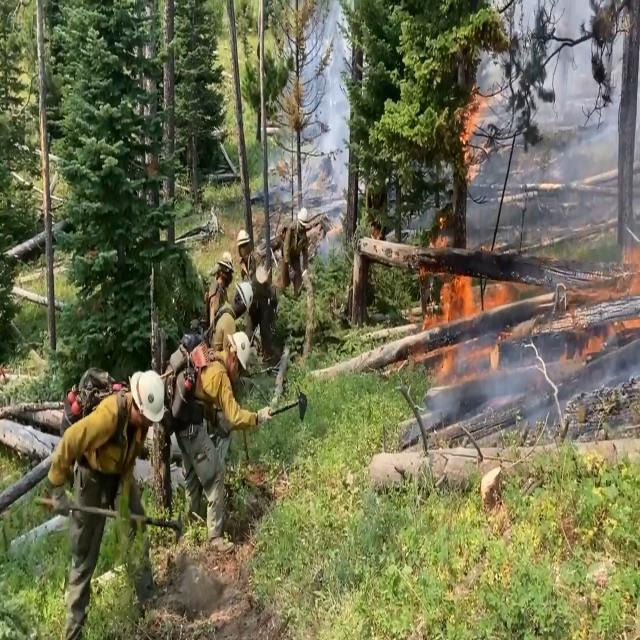Fire: (427, 90, 531, 374)
